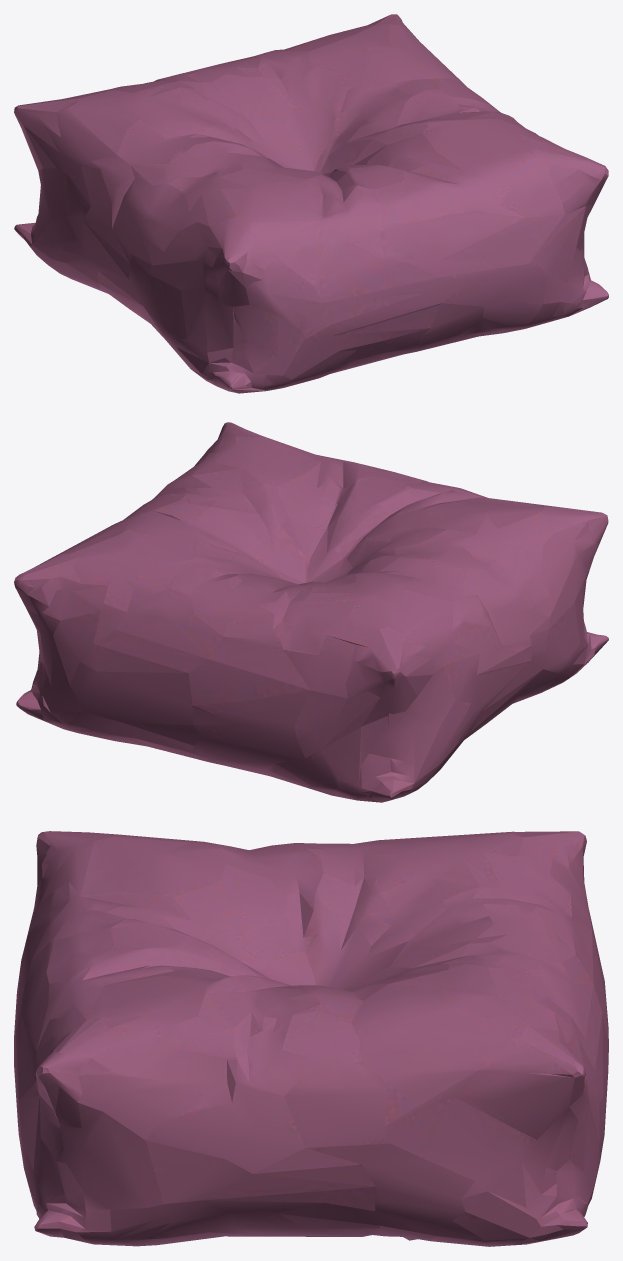
The model's file is cushion.28661a78.glb.
3 renders of one model, top to bottom at view 1: azimuth 30°, elevation 25°; view 2: azimuth 150°, elevation 25°; view 3: azimuth 270°, elevation 25°, orthographic. The views are drawn at different scales.
Parts seen in each view (by area): view 1: output_unwrapped; view 2: output_unwrapped; view 3: output_unwrapped.
Boxes of the visible parts, bbox=[...] form: output_unwrapped: bbox=[14, 14, 608, 393]; output_unwrapped: bbox=[14, 422, 608, 802]; output_unwrapped: bbox=[14, 831, 608, 1246].
Size of the model in its own units: 1.9 by 0.7943 by 1.9.
Materials: 1 (1 with a texture image).
